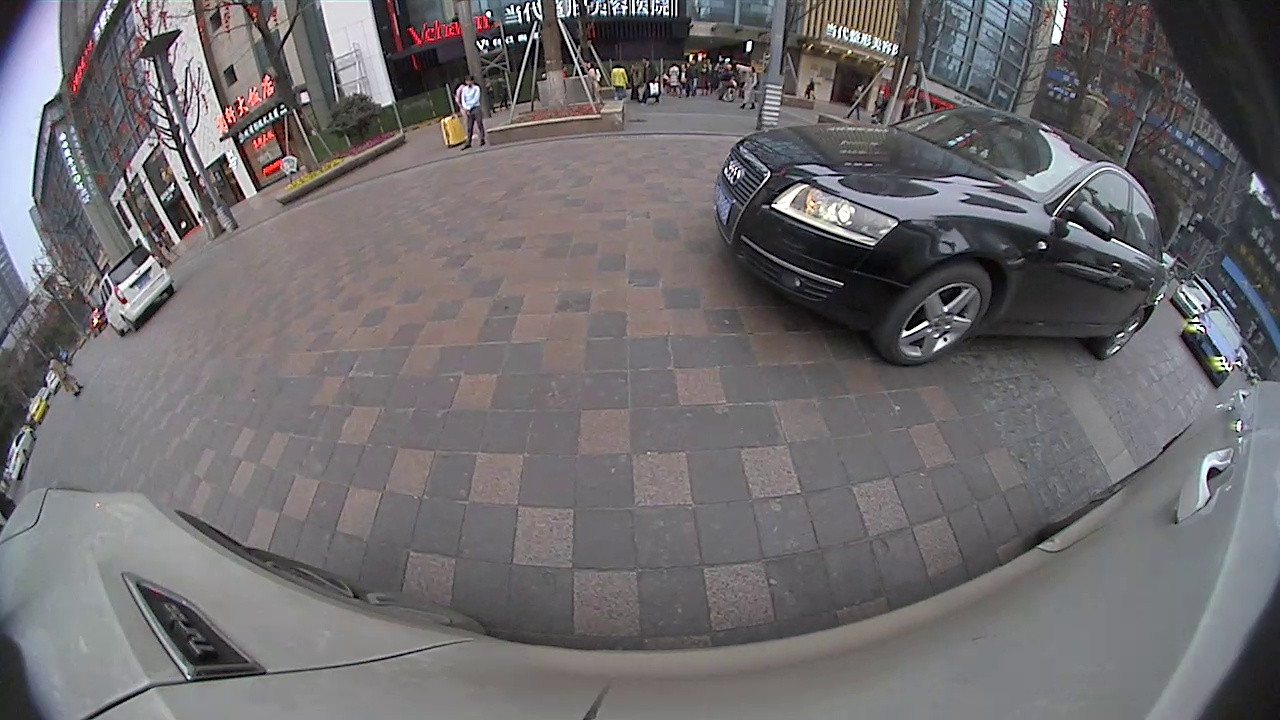car: (713, 106, 1168, 371), (95, 243, 176, 339), (1178, 306, 1246, 391), (1169, 277, 1213, 321)
front: (878, 260, 997, 368)
person: (463, 75, 481, 150), (50, 358, 65, 396)
rear: (1096, 307, 1148, 365)
